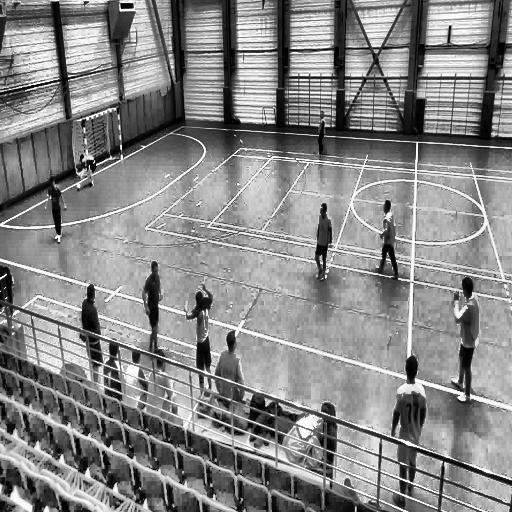ball: (75, 181, 82, 193)
player: (390, 354, 426, 500), (450, 277, 481, 402), (185, 287, 213, 392), (215, 328, 246, 407), (80, 284, 103, 388), (375, 201, 400, 280), (142, 261, 162, 358), (314, 202, 332, 282), (49, 180, 66, 242), (79, 147, 96, 190), (316, 111, 326, 157)
